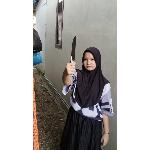Pisau: (67, 32, 79, 72)
